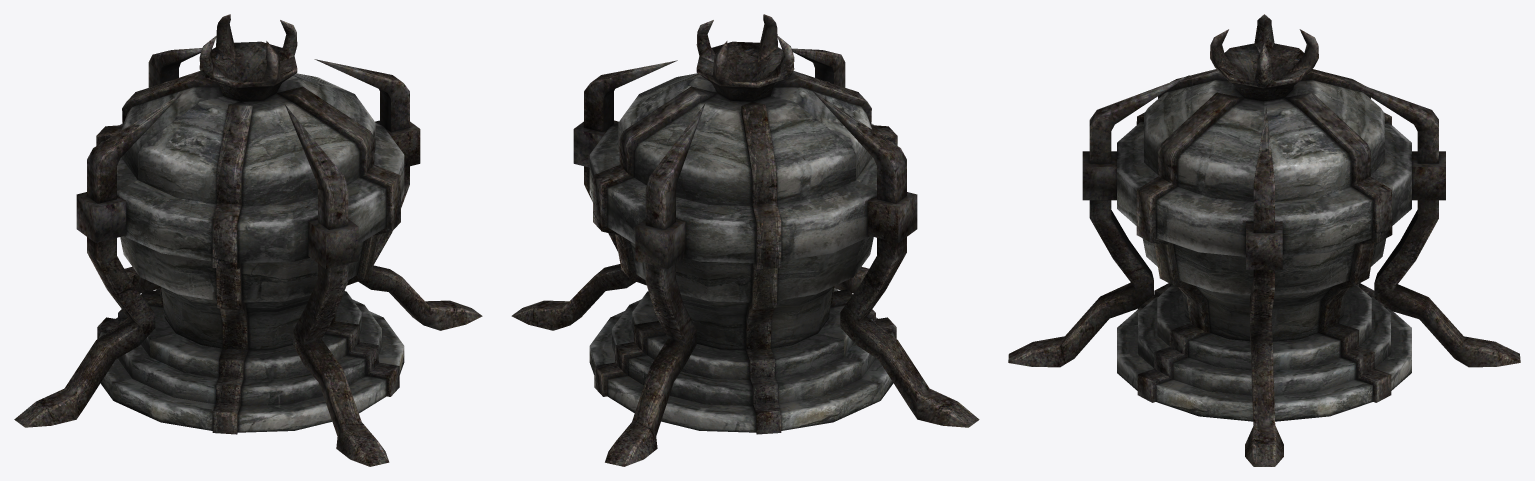
Rendered from orb_altar.dae.
3 views of the same model, side by side, from view 1: azimuth 30°, elevation 25°; view 2: azimuth 150°, elevation 25°; view 3: azimuth 270°, elevation 25° (orthographic). The views are drawn at different scales.
Parts seen in each view (by area): view 1: orb_altar; view 2: orb_altar; view 3: orb_altar.
Part boxes in pixels (bbox=[...]): orb_altar: bbox=[14, 14, 482, 466]; orb_altar: bbox=[511, 14, 979, 466]; orb_altar: bbox=[1008, 14, 1520, 466].
Bounding box in the file's own units: 4.74 × 3.37 × 4.74.
